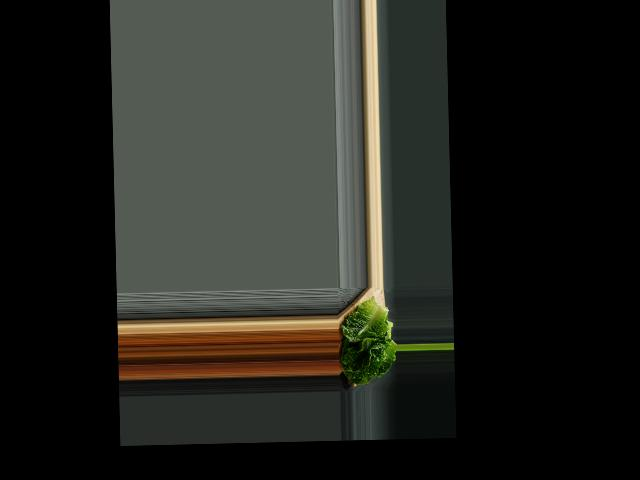lettuce: (336, 299, 396, 388)
